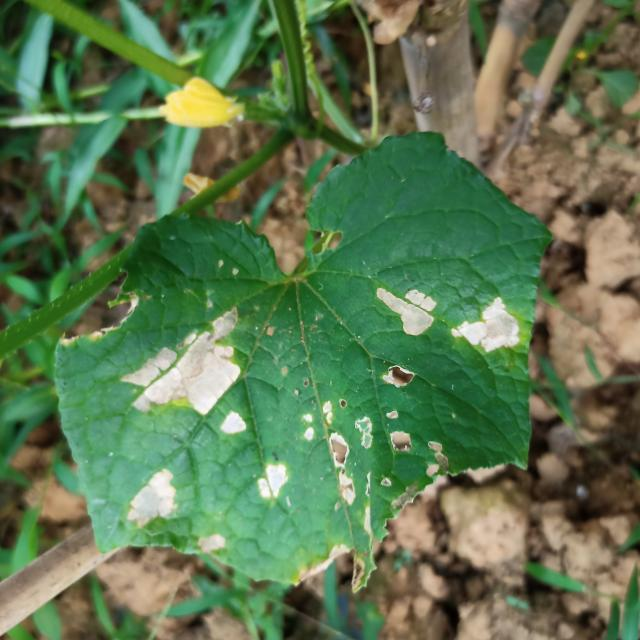disease_cucumber: (126, 313, 254, 446), (304, 394, 377, 506), (445, 295, 524, 361), (111, 463, 186, 528), (377, 358, 420, 461), (369, 278, 437, 343), (255, 454, 292, 506), (197, 530, 228, 558)
